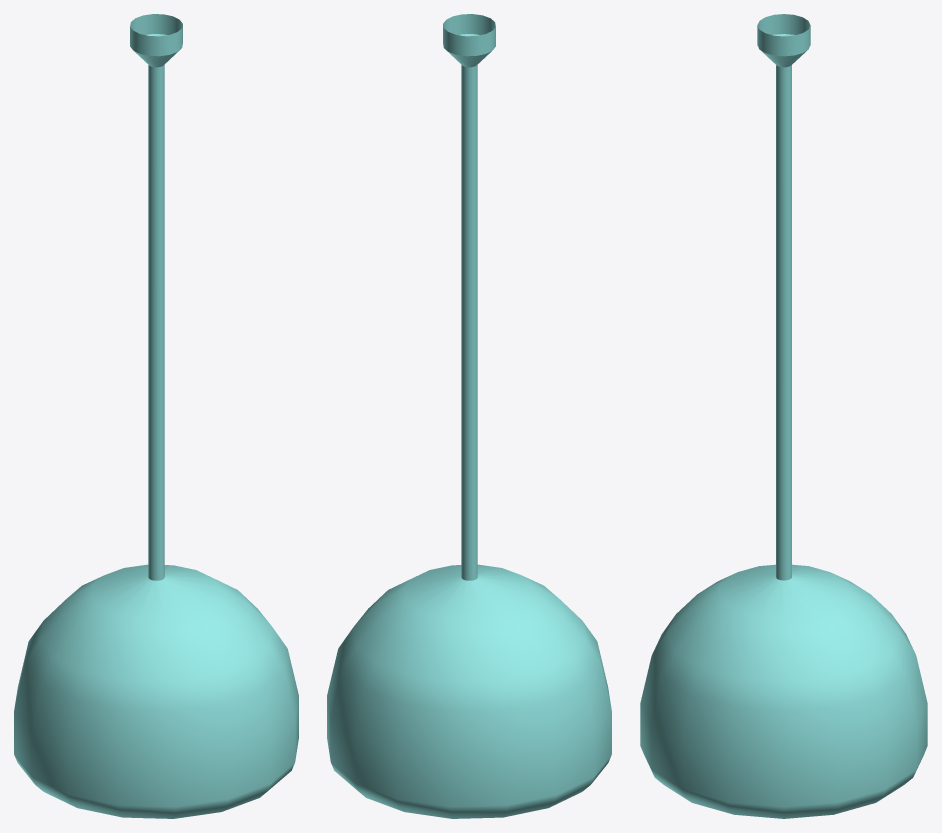
Rendered from Lights_001.fbx.
3 renders of one model, left to right at view 1: azimuth 30°, elevation 25°; view 2: azimuth 150°, elevation 25°; view 3: azimuth 270°, elevation 25°, orthographic.
Parts seen in each view (by area): view 1: Lights_001; view 2: Lights_001; view 3: Lights_001.
Boxes of the visible parts, x1,y1,x2,y2 form: Lights_001: [14, 14, 298, 818]; Lights_001: [327, 14, 611, 818]; Lights_001: [640, 14, 927, 818].
Bounding box in the file's own units: 59.88 × 174 × 59.88.
